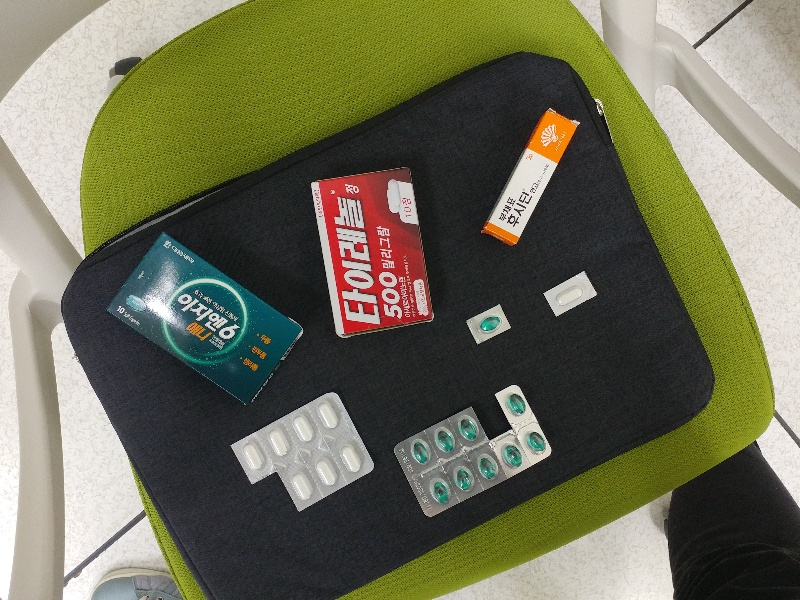ezn: (106, 231, 301, 404)
fucidin: (485, 109, 577, 245)
pill_ezn: (466, 304, 512, 345), (520, 421, 552, 464), (425, 473, 459, 512), (500, 385, 533, 423), (496, 436, 527, 476), (448, 459, 479, 499), (471, 445, 501, 486), (408, 431, 435, 471), (431, 420, 458, 459), (454, 410, 481, 445)
tylenol: (310, 167, 434, 338)
